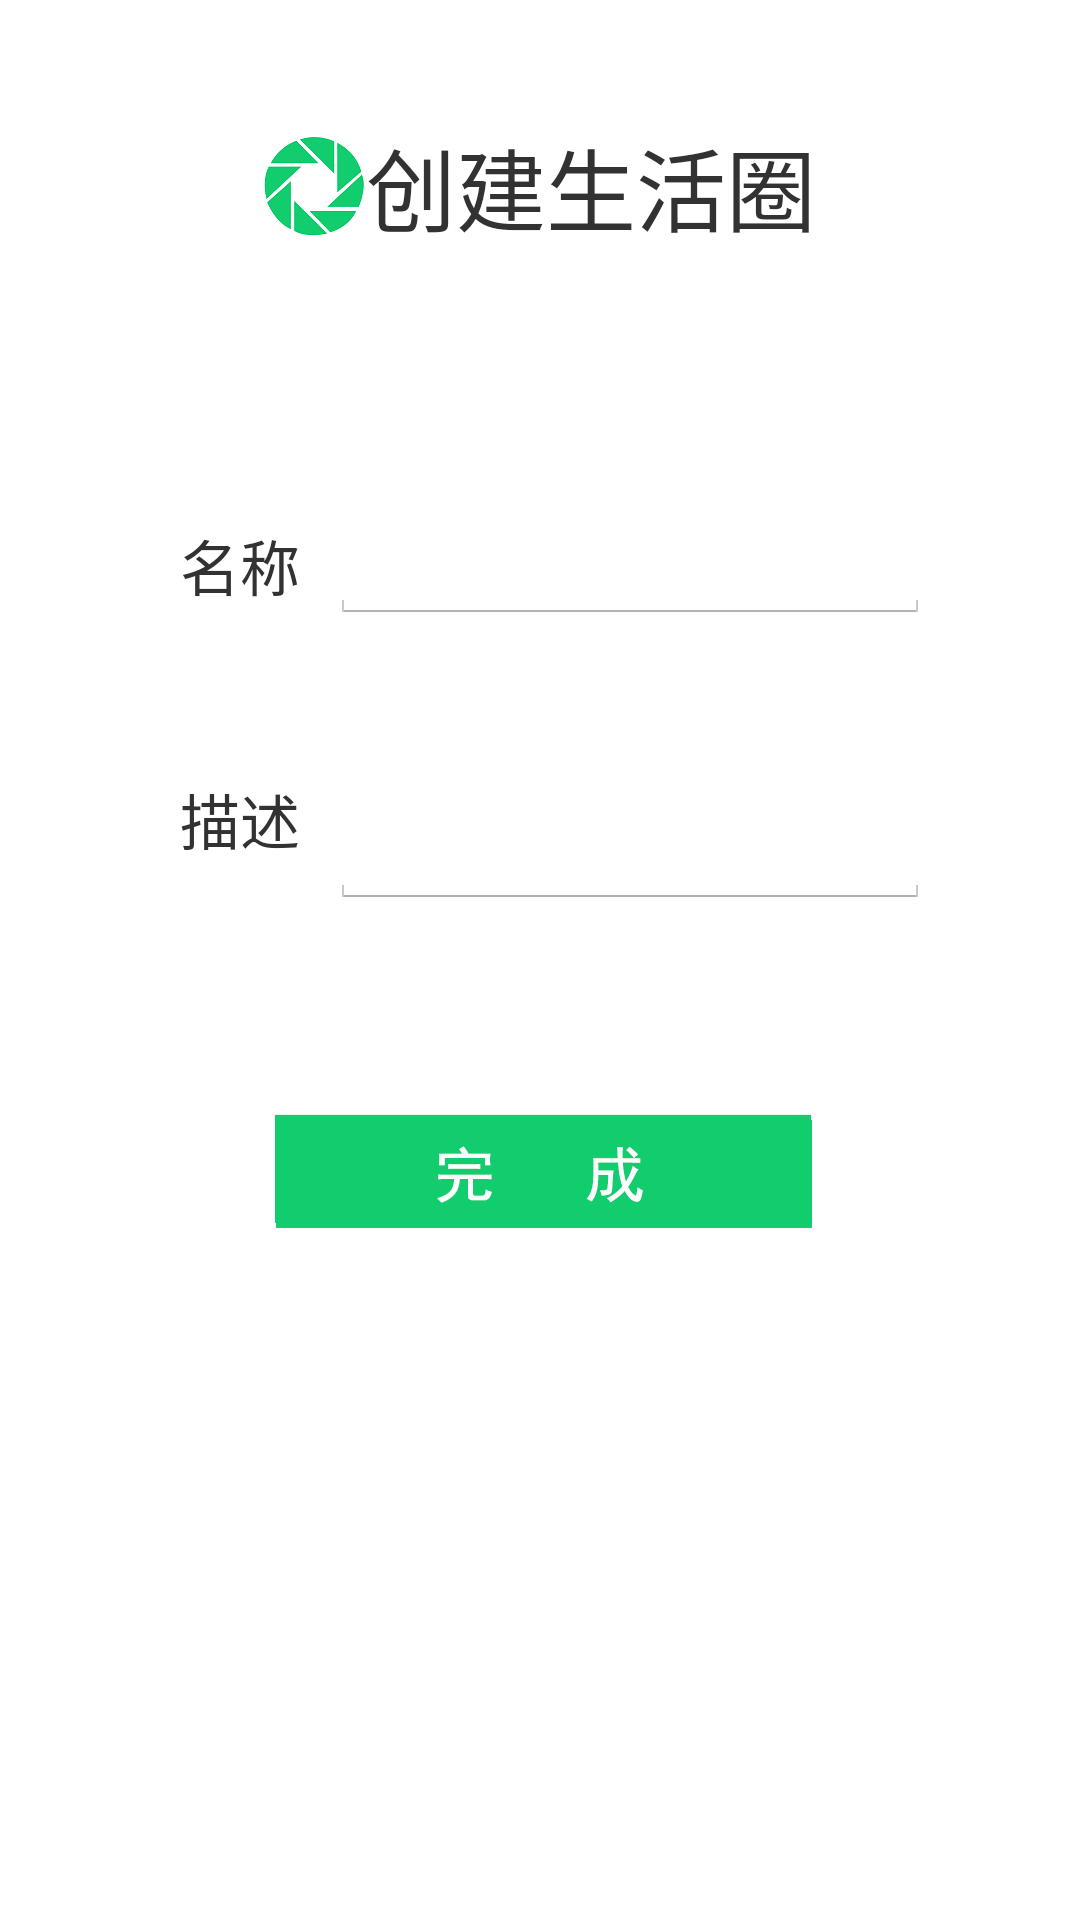

Icons on this 1080×1920 Android screen, each with the point to tap as (x=x, y=y):
circle: (x=314, y=186)
